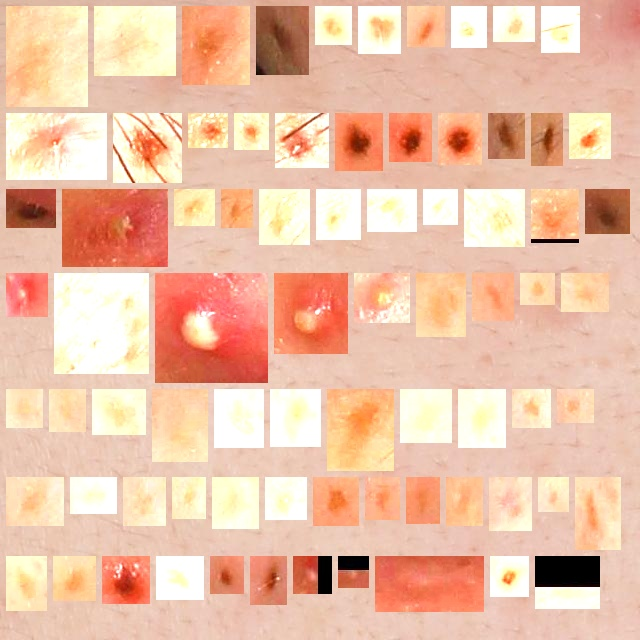hypertrophic_scar: (62, 281, 141, 366), (383, 564, 476, 604)
melasma: (14, 14, 80, 99), (102, 14, 168, 68), (335, 397, 386, 463), (190, 14, 242, 77), (160, 397, 200, 454), (472, 197, 517, 239), (543, 564, 592, 601), (583, 485, 613, 542), (424, 281, 458, 329), (278, 397, 313, 439), (222, 397, 256, 440), (267, 197, 302, 237), (14, 485, 56, 518), (466, 397, 498, 440), (408, 397, 444, 435), (539, 197, 571, 235), (100, 397, 138, 427), (220, 485, 251, 521), (497, 485, 524, 523), (324, 197, 353, 232), (321, 485, 351, 518), (14, 564, 39, 603), (375, 197, 409, 224), (164, 564, 196, 592), (131, 485, 158, 518), (480, 281, 506, 313), (61, 564, 88, 593), (569, 281, 601, 304), (273, 485, 299, 512), (454, 485, 475, 518), (78, 485, 109, 506), (57, 397, 78, 424), (414, 485, 432, 516), (520, 397, 543, 420), (182, 197, 207, 218), (373, 485, 392, 512), (14, 397, 35, 420), (180, 485, 198, 511), (431, 197, 450, 217), (565, 397, 586, 415), (229, 197, 245, 220), (528, 281, 547, 297), (546, 485, 561, 504)
nevus: (121, 121, 174, 175), (264, 14, 301, 67), (283, 121, 321, 160), (343, 121, 375, 163), (110, 564, 142, 596), (446, 121, 474, 157), (397, 121, 424, 154), (366, 14, 393, 46), (593, 197, 622, 226), (14, 197, 48, 220), (577, 121, 603, 151), (258, 564, 279, 597), (496, 121, 517, 151), (539, 121, 555, 158), (498, 564, 521, 589), (415, 14, 437, 39), (459, 14, 479, 40), (323, 14, 344, 37), (196, 121, 220, 140), (242, 121, 261, 142), (218, 564, 236, 586)
pustule: (163, 281, 260, 375), (70, 197, 160, 259), (14, 121, 99, 172), (282, 281, 340, 346), (362, 281, 402, 315), (14, 281, 40, 309), (301, 564, 324, 586), (346, 564, 361, 580)
